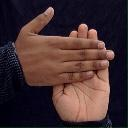hand: (15, 6, 115, 85), (51, 23, 109, 122)
